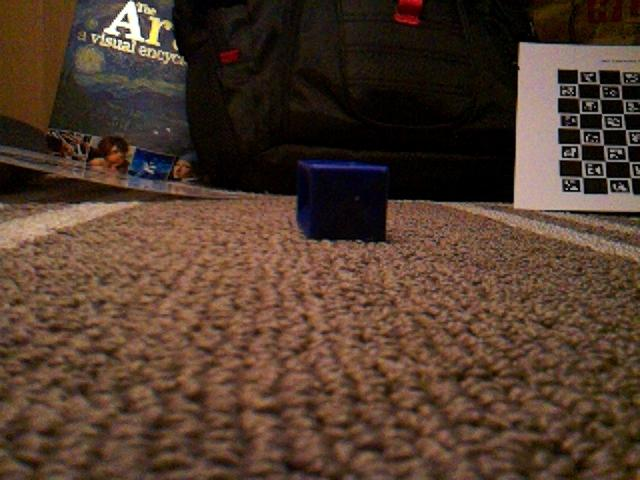blue: (294, 157, 392, 244)
